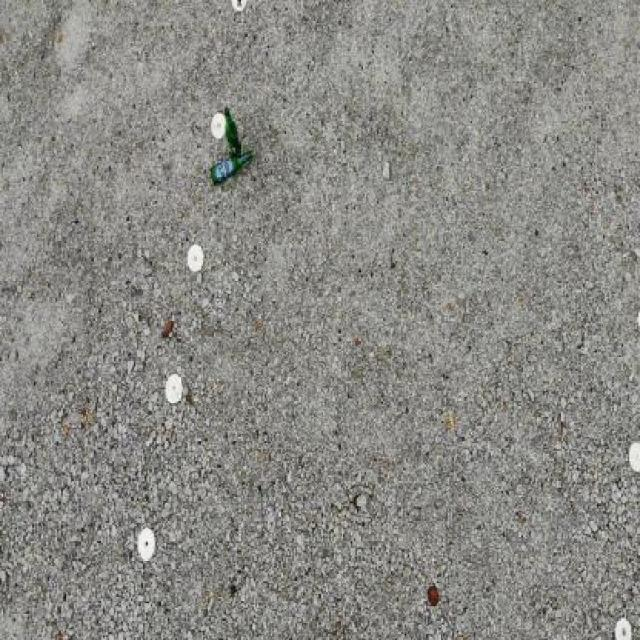Garbage: (210, 149, 256, 188), (223, 108, 240, 155), (428, 588, 438, 606)
